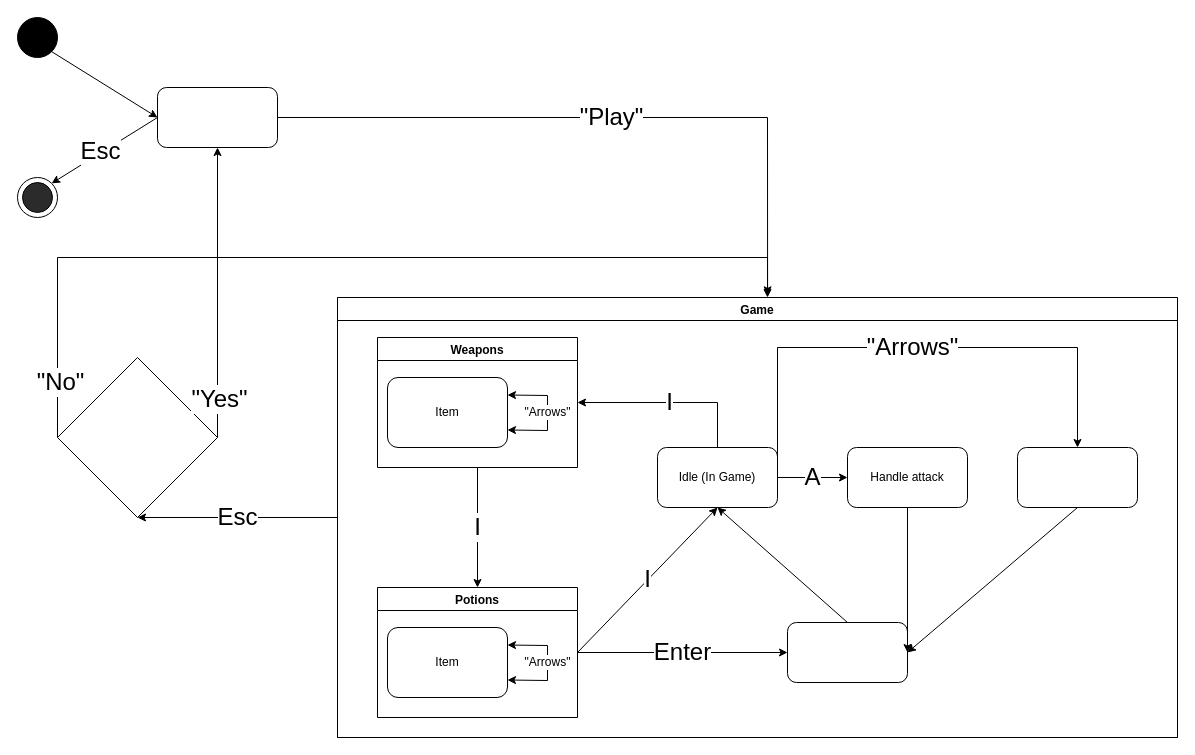
The diagram is 1195 pixels wide and 755 high, and some of its shapes have lost their labels. The shapes that lost their labels are listed below. From the top down, each one's centre as x and y in pixels, then its label:
At [217,117]: "Idle (Main Menu)".
At [137,437]: "Exit?".
At [1077,477]: "Handle movement".
At [847,652]: "State refresh".
